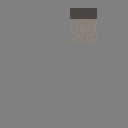supply_truck: (70, 8, 97, 43)
